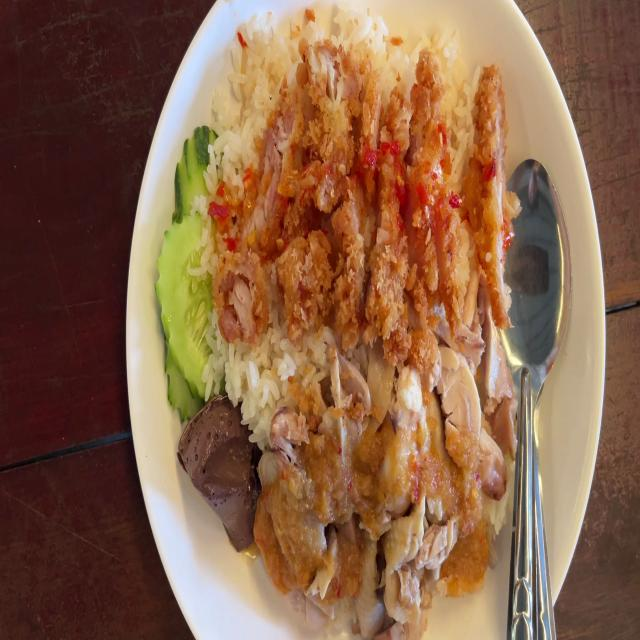boiled_chicken: (264, 353, 504, 603)
boiled_chicken_blood_jelly: (179, 394, 250, 554)
chicken_rice: (169, 0, 513, 607)
cucumber: (162, 119, 220, 421)
fried_chicken: (219, 42, 502, 324)
